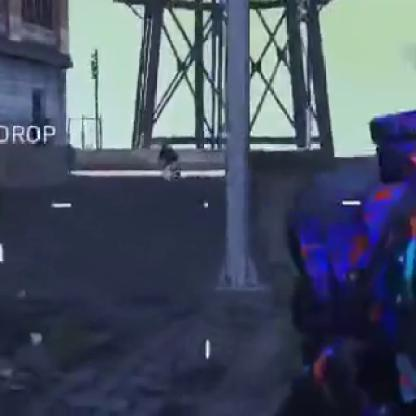enemy: (155, 142, 182, 183)
